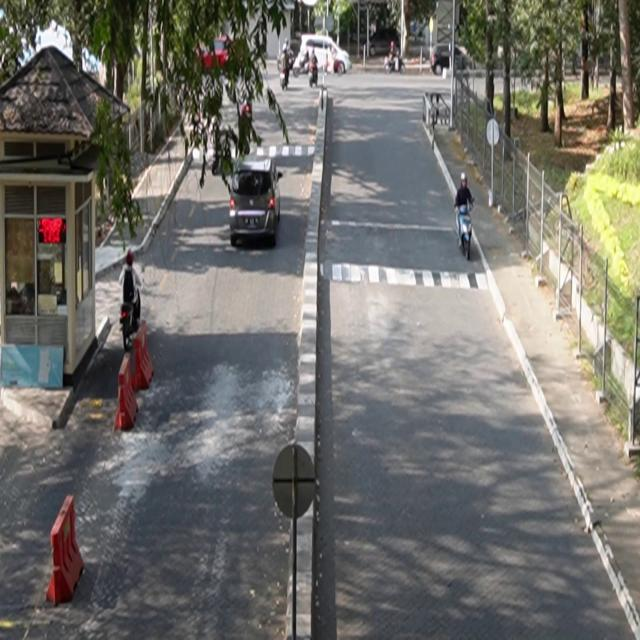car: (230, 156, 284, 248), (431, 44, 476, 76), (365, 28, 401, 58)
